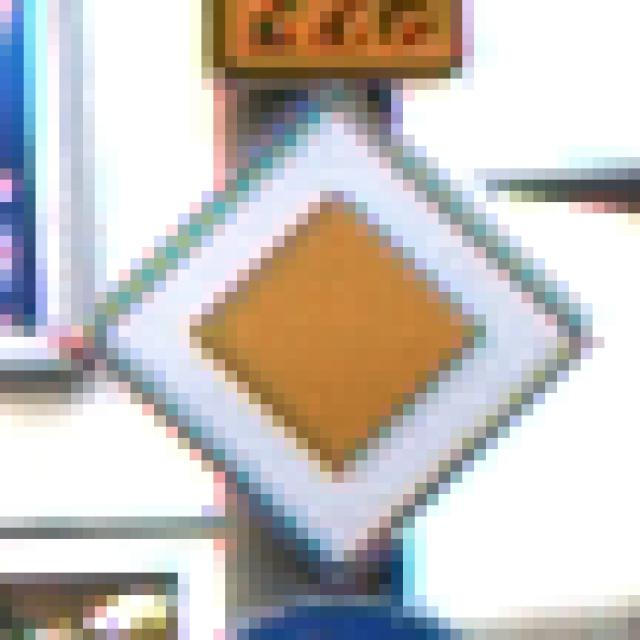Main Road: (72, 57, 582, 574)
